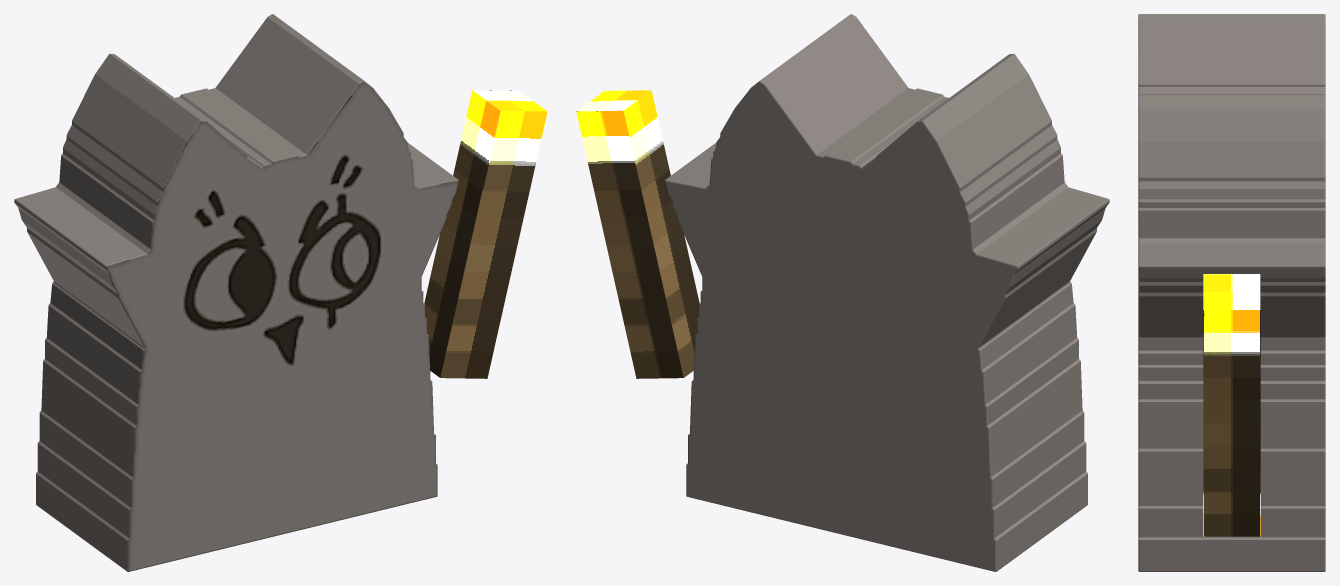
File: vagabond-pawn-ranger.glb
3 views of the same model, side by side, from view 1: azimuth 30°, elevation 25°; view 2: azimuth 150°, elevation 25°; view 3: azimuth 270°, elevation 25° (orthographic).
Parts seen in each view (by area): view 1: vagabond-pawn-ranger.001, vagabond-pawn-ranger_torch; view 2: vagabond-pawn-ranger.001, vagabond-pawn-ranger_torch; view 3: vagabond-pawn-ranger.001, vagabond-pawn-ranger_torch.
Boxes of the visible parts, x1,y1,x2,y2 form: vagabond-pawn-ranger.001: [14, 14, 458, 571]; vagabond-pawn-ranger_torch: [424, 90, 547, 378]; vagabond-pawn-ranger.001: [665, 14, 1109, 571]; vagabond-pawn-ranger_torch: [576, 90, 699, 378]; vagabond-pawn-ranger.001: [1138, 14, 1325, 571]; vagabond-pawn-ranger_torch: [1203, 274, 1260, 536].
Bounding box in the file's own units: 0.8566 × 0.75 × 0.2891.
Materials: 3 (2 with a texture image).
